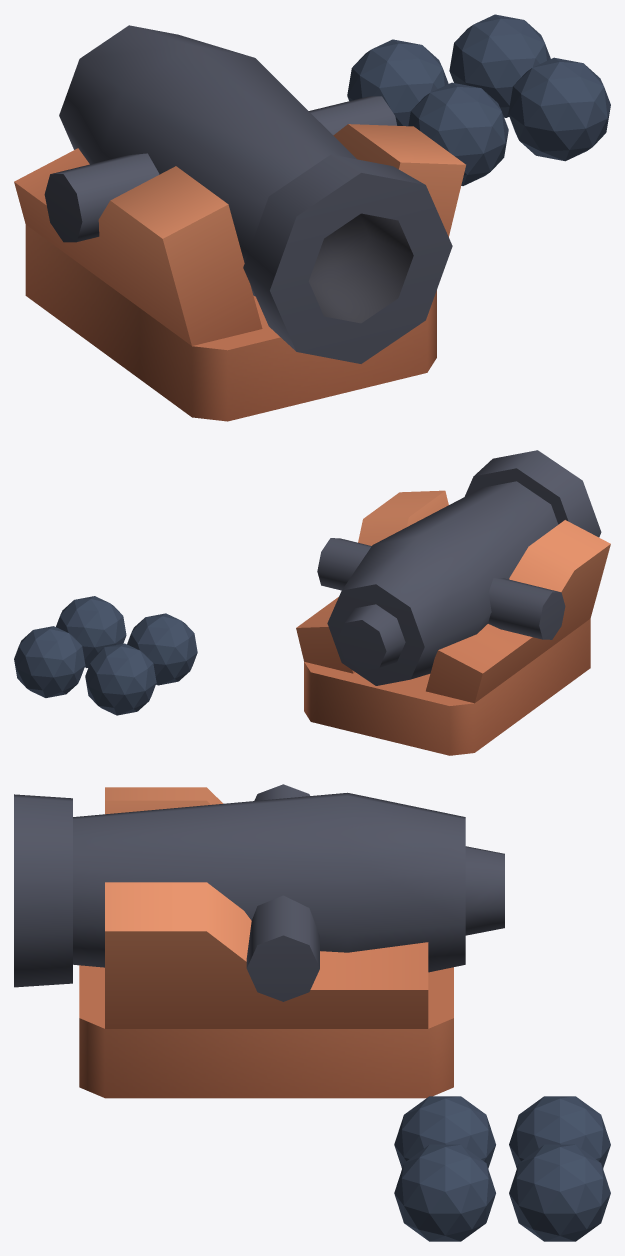
File: module-cannons.glb
3 renders of one model, top to bottom at view 1: azimuth 30°, elevation 25°; view 2: azimuth 150°, elevation 25°; view 3: azimuth 270°, elevation 25°, orthographic. The views are drawn at different scales.
Parts seen in each view (by area): view 1: cannon.005, Group.070, Cannonball.001, Cannonball, Cannonball.003, Group.071, Cannonball.002; view 2: cannon.005, Group.070, Group.071, Cannonball.003, Cannonball.002, Cannonball, Cannonball.001; view 3: cannon.005, Group.071, Cannonball.003, Cannonball.001, Cannonball, Cannonball.002, Group.070.
Part boxes in pixels (left/top/right/bottom): cannon.005: left=25, top=25, right=452, bottom=421; Group.070: left=14, top=148, right=262, bottom=345; Cannonball.001: left=508, top=57, right=610, bottom=161; Cannonball: left=408, top=82, right=508, bottom=185; Cannonball.003: left=449, top=14, right=550, bottom=117; Group.071: left=333, top=124, right=465, bottom=236; Cannonball.002: left=347, top=39, right=448, bottom=126; cannon.005: left=304, top=450, right=601, bottom=755; Group.070: left=426, top=520, right=610, bottom=703; Group.071: left=296, top=490, right=448, bottom=673; Cannonball.003: left=14, top=626, right=85, bottom=697; Cannonball.002: left=85, top=643, right=156, bottom=715; Cannonball: left=127, top=613, right=197, bottom=685; Cannonball.001: left=56, top=596, right=126, bottom=667; cannon.005: left=14, top=784, right=504, bottom=1098; Group.071: left=105, top=882, right=428, bottom=1028; Cannonball.003: left=509, top=1144, right=610, bottom=1241; Cannonball.001: left=394, top=1144, right=495, bottom=1241; Cannonball: left=394, top=1096, right=495, bottom=1168; Cannonball.002: left=509, top=1096, right=610, bottom=1168; Group.070: left=105, top=787, right=222, bottom=814.
Bounding box in the file's own units: 2.74 × 1.05 × 2.34.
Materials: 2 (1 with a texture image).
